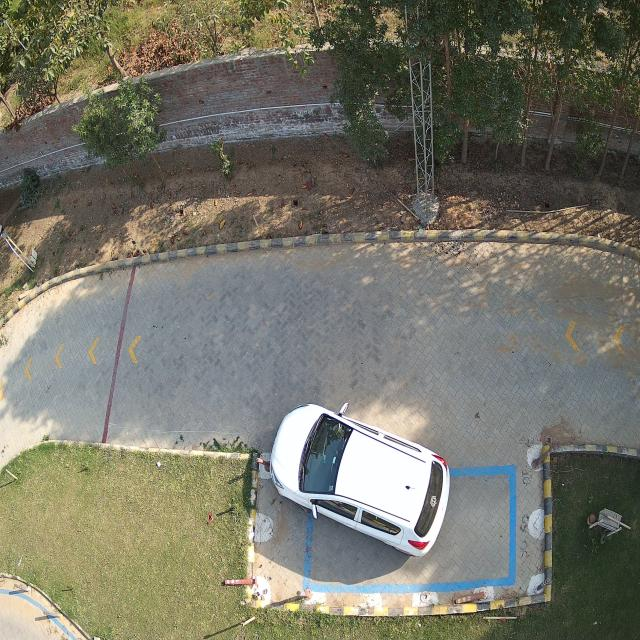car: (270, 403, 450, 557)
